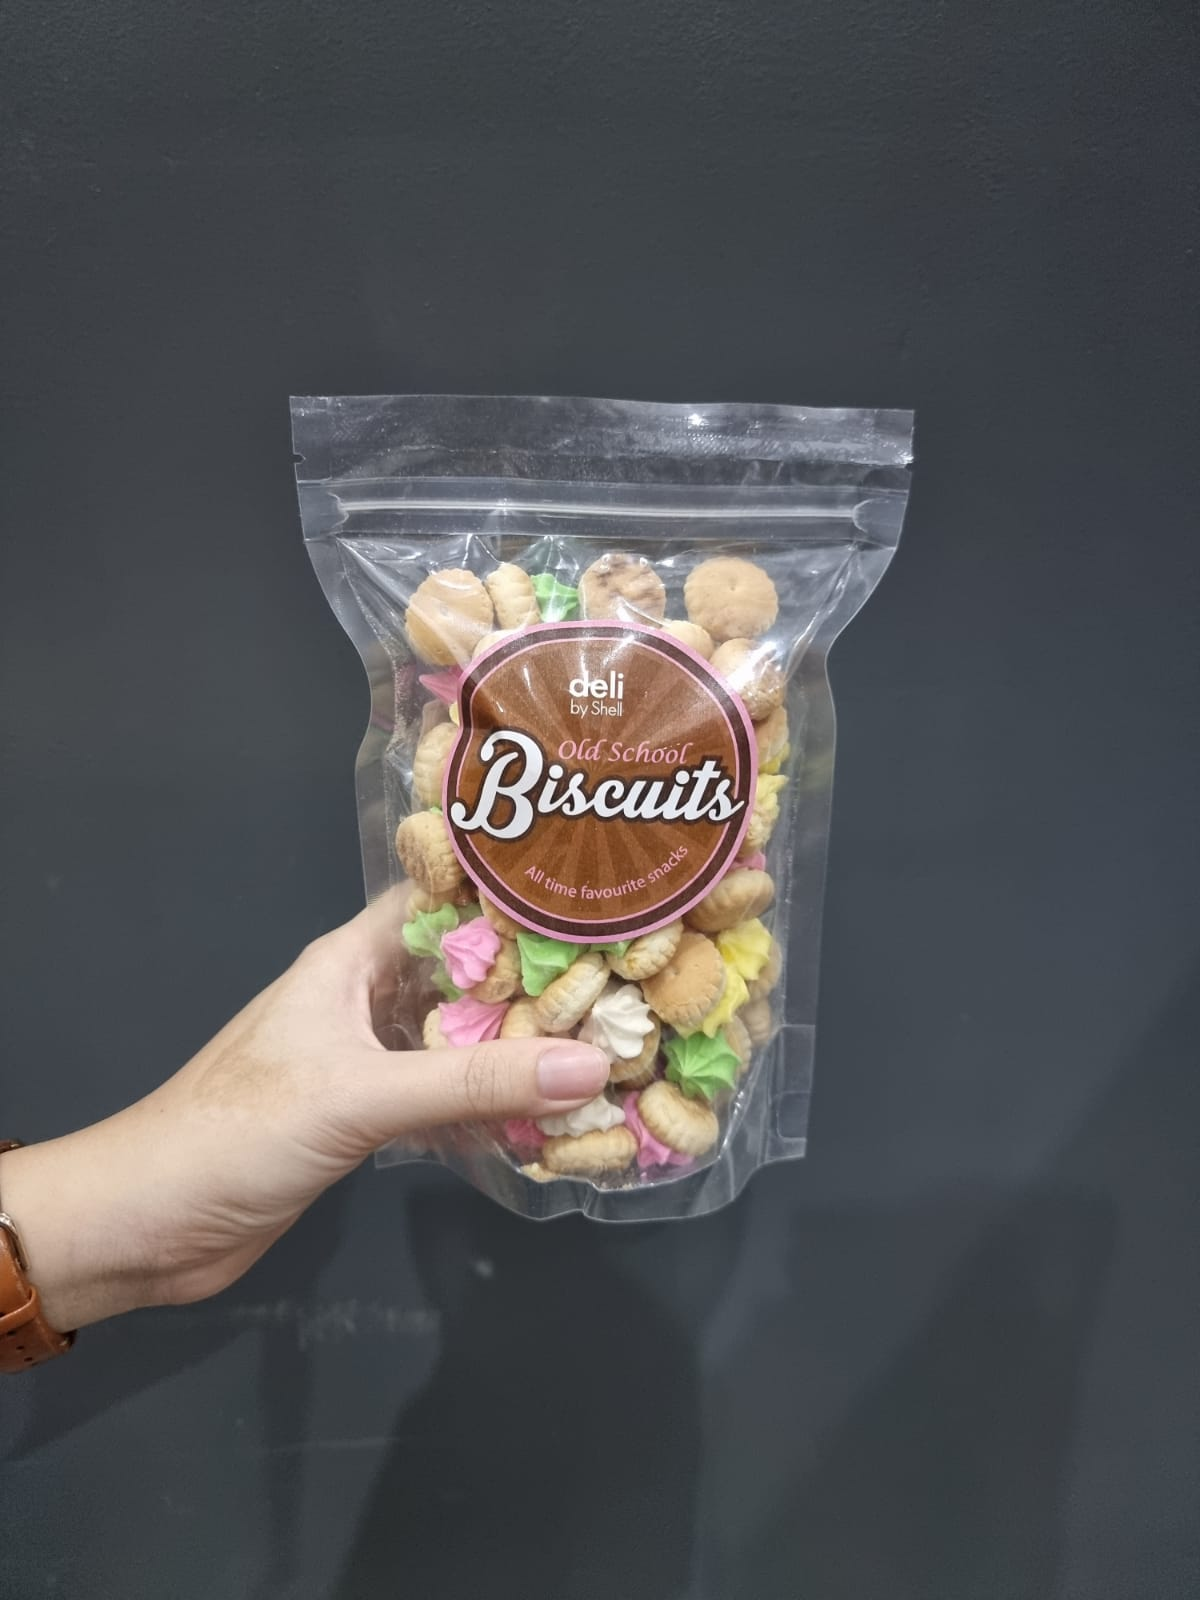Biscuits: (373, 504, 792, 1167)
